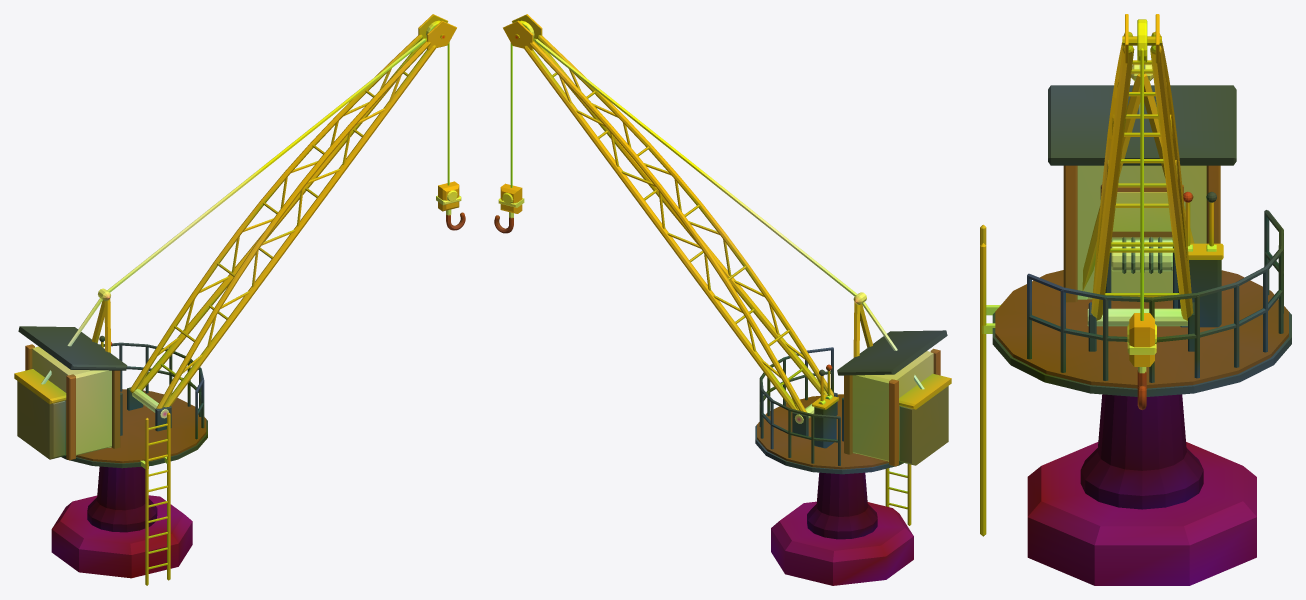
File: Yard_Crane.fbx
The picture shows the model from 3 angles, left to right: view 1: azimuth 30°, elevation 25°; view 2: azimuth 150°, elevation 25°; view 3: azimuth 270°, elevation 25°; orthographic projection. The views are drawn at different scales.
Parts seen in each view (by area): view 1: Move_Slew, Base, Move_Hook; view 2: Move_Slew, Base, Move_Hook; view 3: Move_Slew, Base, Move_Hook, Cable.
Part boxes in pixels (left/top/right/bottom): Move_Slew: left=14, top=14, right=456, bottom=585; Base: left=51, top=466, right=192, bottom=578; Move_Hook: left=436, top=181, right=465, bottom=230; Move_Slew: left=503, top=14, right=951, bottom=525; Base: left=771, top=472, right=913, bottom=585; Move_Hook: left=494, top=183, right=524, bottom=233; Move_Slew: left=980, top=14, right=1291, bottom=536; Base: left=1027, top=394, right=1256, bottom=585; Move_Hook: left=1127, top=313, right=1156, bottom=409; Cable: left=1140, top=48, right=1143, bottom=320.
Bounding box in the file's own units: 8.79 × 8.8 × 3.14.
